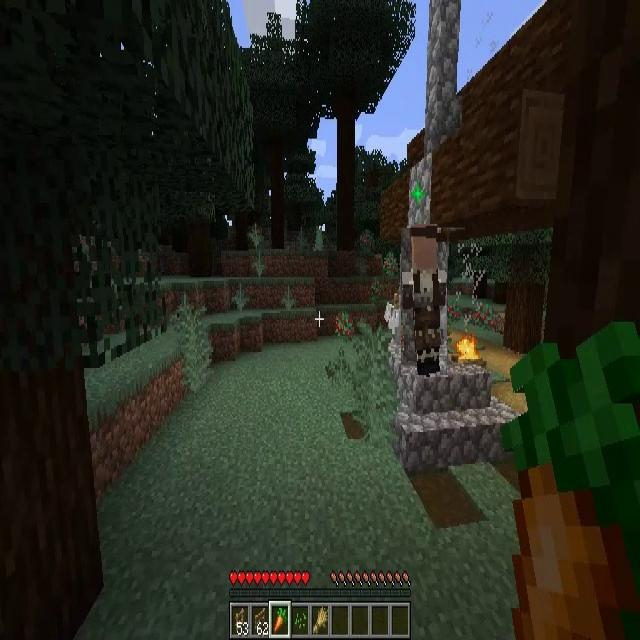people: (401, 228, 447, 375)
